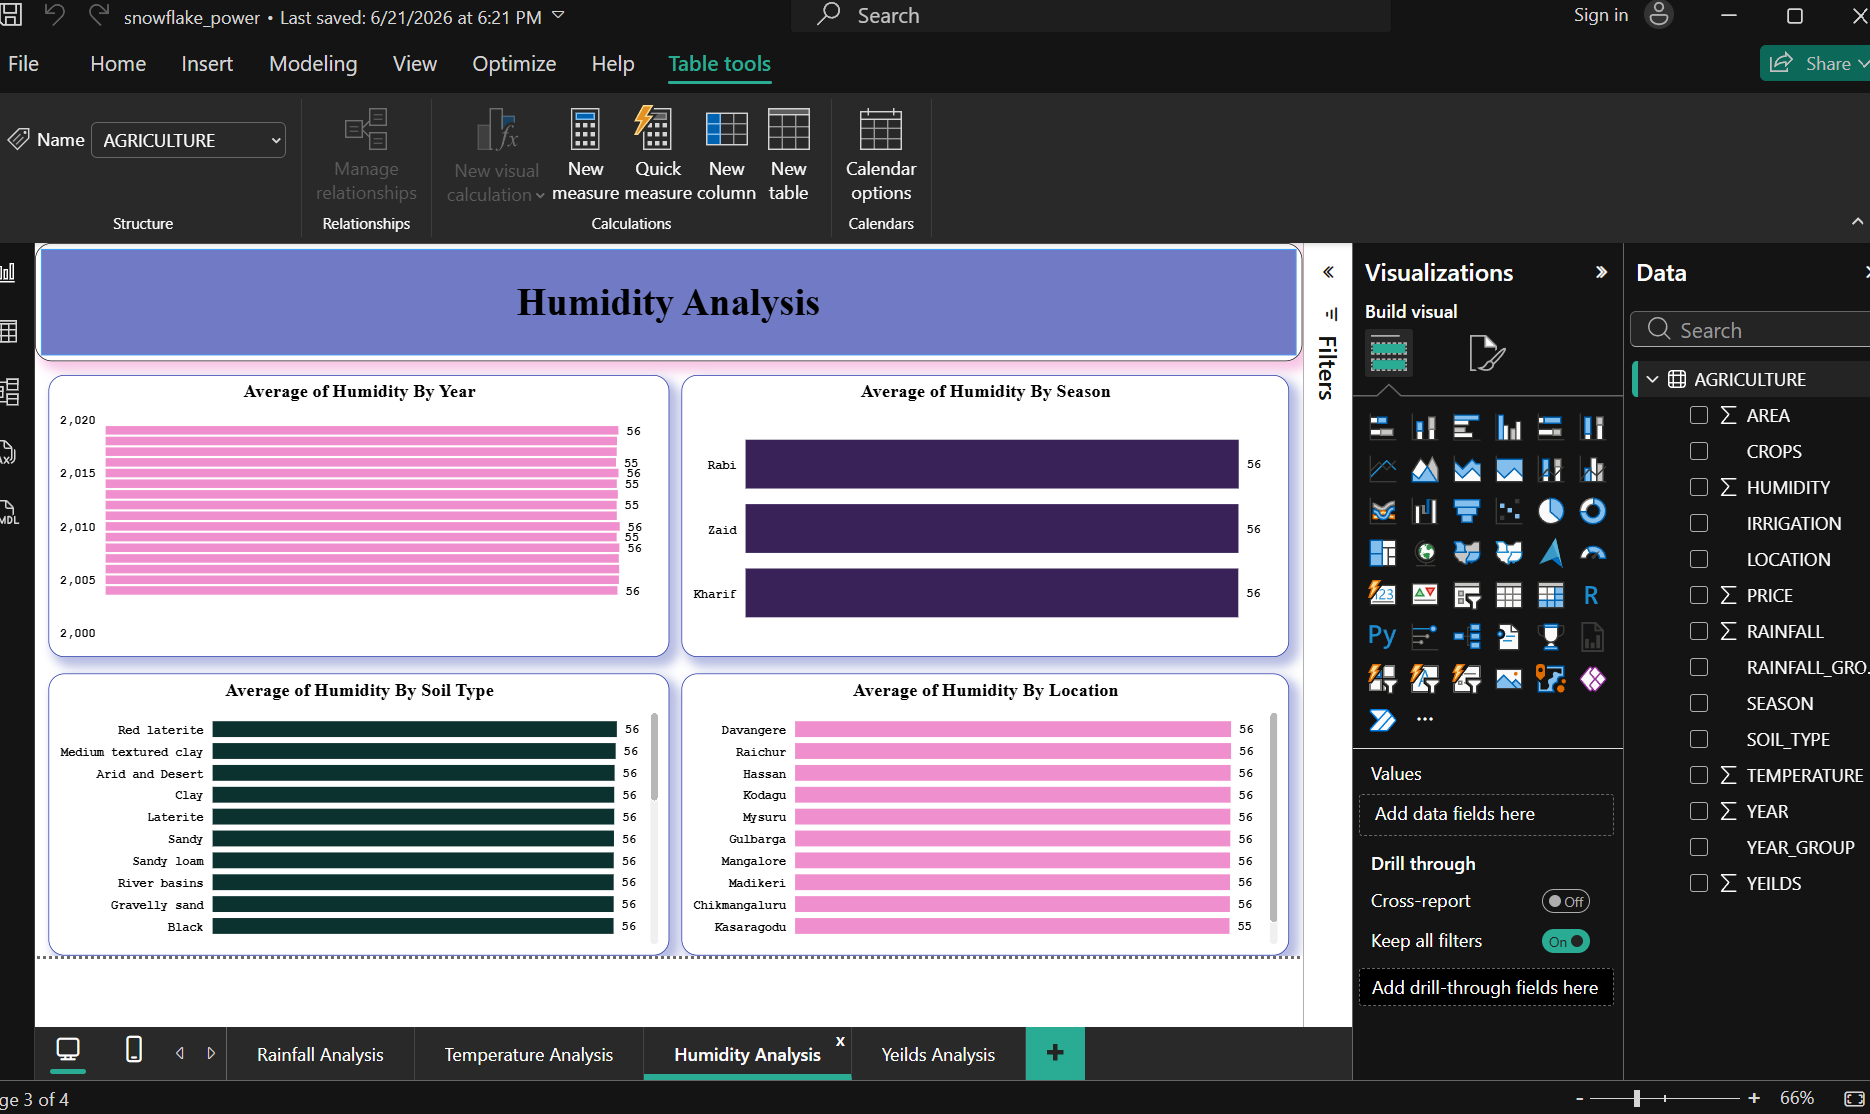

This screenshot's page, from the dashboard's own definition file:
{"tool":"powerbi","page":{"name":"Humidity  Analysis","canvas":[1280,720],"ordinal":2},"visuals":[{"type":"shape","title":"Rainfall analysis","box":[0,0,1279.5,119.6],"z":0},{"type":"barChart","title":"Average of Humidity By Year","fields":{"Category":["AGRICULTURE.YEAR"],"Y":["Avg(AGRICULTURE.HUMIDITY)"]},"box":[13.6,133.3,626.9,284.7],"z":1000},{"type":"barChart","title":"Average of Humidity By Season","fields":{"Category":["AGRICULTURE.SEASON"],"Y":["Avg(AGRICULTURE.HUMIDITY)"]},"box":[652.6,133.3,613.3,284.7],"z":2000},{"type":"barChart","title":"Average of Humidity By Soil Type","fields":{"Category":["AGRICULTURE.SOIL_TYPE"],"Y":["Avg(AGRICULTURE.HUMIDITY)"]},"box":[13.6,434.6,626.9,284.7],"z":3000},{"type":"barChart","title":"Average of Humidity By Location","fields":{"Category":["AGRICULTURE.LOCATION"],"Y":["Avg(AGRICULTURE.HUMIDITY)"]},"box":[652.6,434.6,613.3,284.7],"z":4000}]}

Visuals, with their boxes on the page's 1280x720 design canvas (x1, y1, x2, y2). These are canvas units, not pixel positions in the 1870x1114 screenshot, which may show the page scaled, cropped or inside an application window:
"Rainfall analysis" shape: 0 0 1280 120
"Average of Humidity By Year" barChart: 14 133 640 418
"Average of Humidity By Season" barChart: 653 133 1266 418
"Average of Humidity By Soil Type" barChart: 14 435 640 719
"Average of Humidity By Location" barChart: 653 435 1266 719
